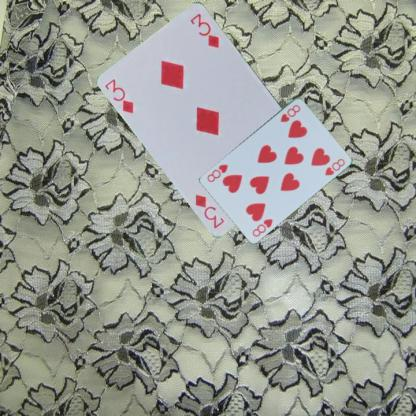3d: (102, 76, 135, 115)
8h: (249, 216, 274, 238), (278, 102, 302, 123)
